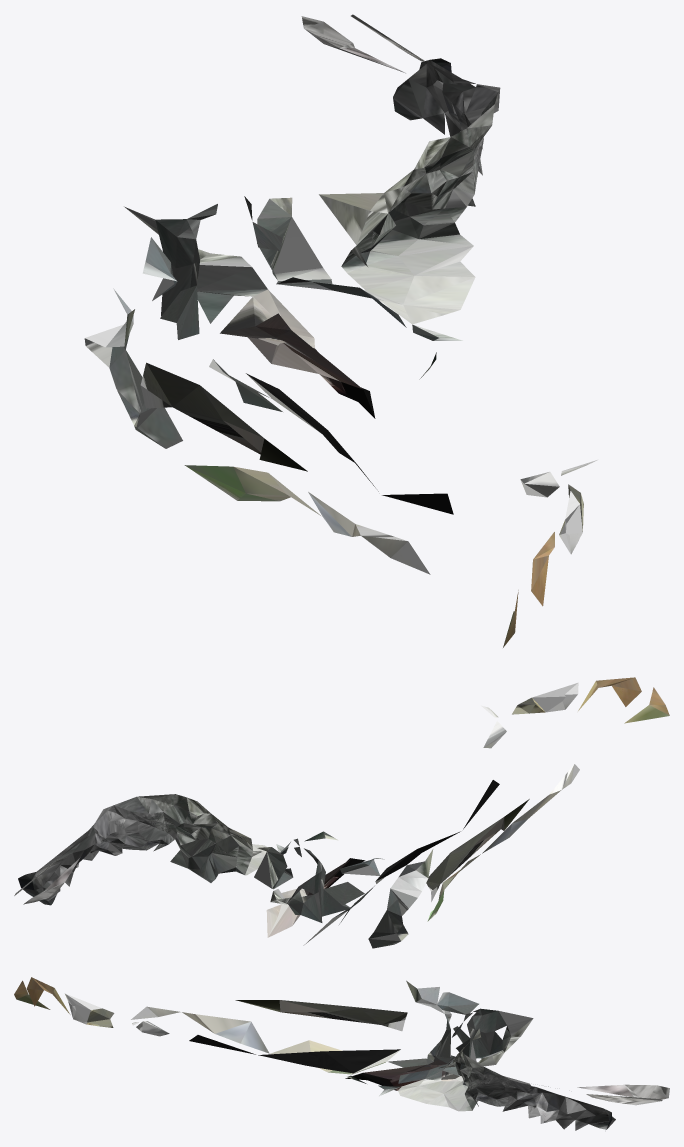
3 views of the same model, one above another, from view 1: azimuth 30°, elevation 25°; view 2: azimuth 150°, elevation 25°; view 3: azimuth 270°, elevation 25° (orthographic). The views are drawn at different scales.
Visible parts, largest first — view 1: Left_Landscape_LO4; view 2: Left_Landscape_LO4; view 3: Left_Landscape_LO4.
Part boxes in pixels (x1,y1,x2,y2): Left_Landscape_LO4: (84,14,597,647); Left_Landscape_LO4: (14,677,669,948); Left_Landscape_LO4: (14,977,669,1130).
Bounding box in the file's own units: 13764 × 5205 × 28890.
Materials: 1 (1 with a texture image).
